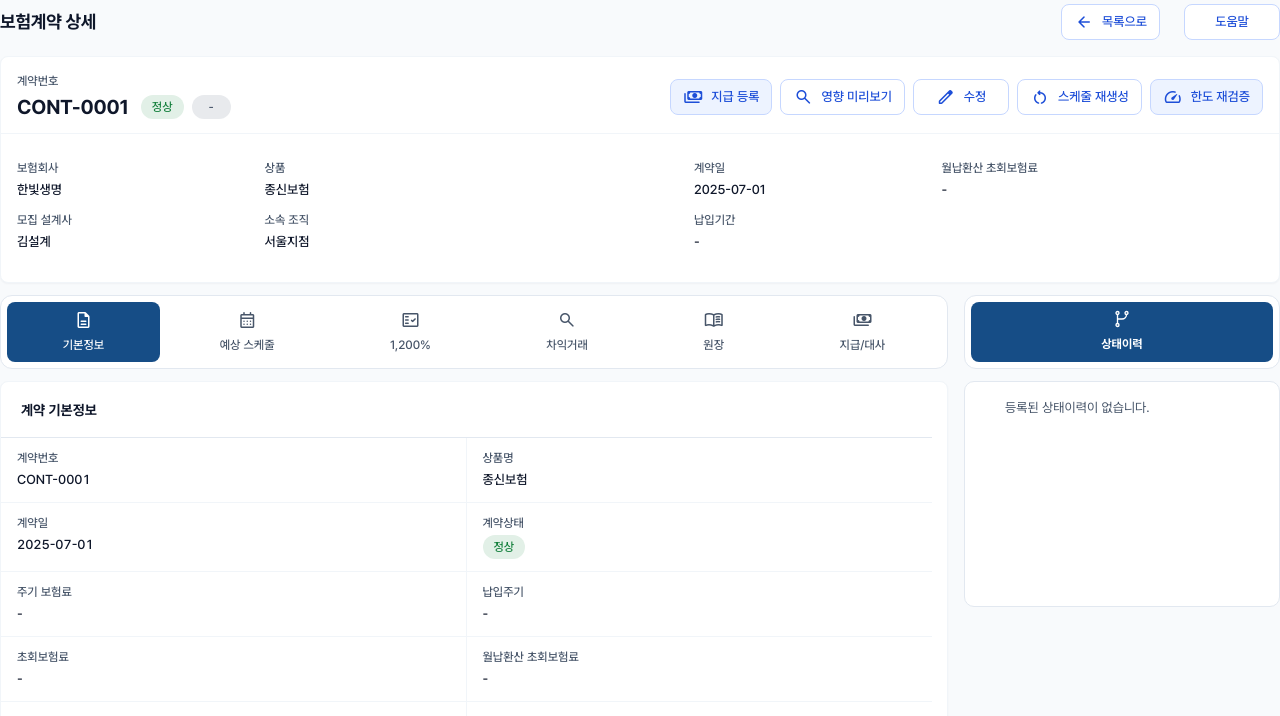
Test case: CONT-W02 상태 변경 영향 미리보기 › 입력이 바뀌면 결과를 낡음으로 표시하고 같은 입력으로 다시 미리보면 지운다
Click the button "영향 미리보기" at (843, 97), box left=780, top=79, right=905, bottom=115
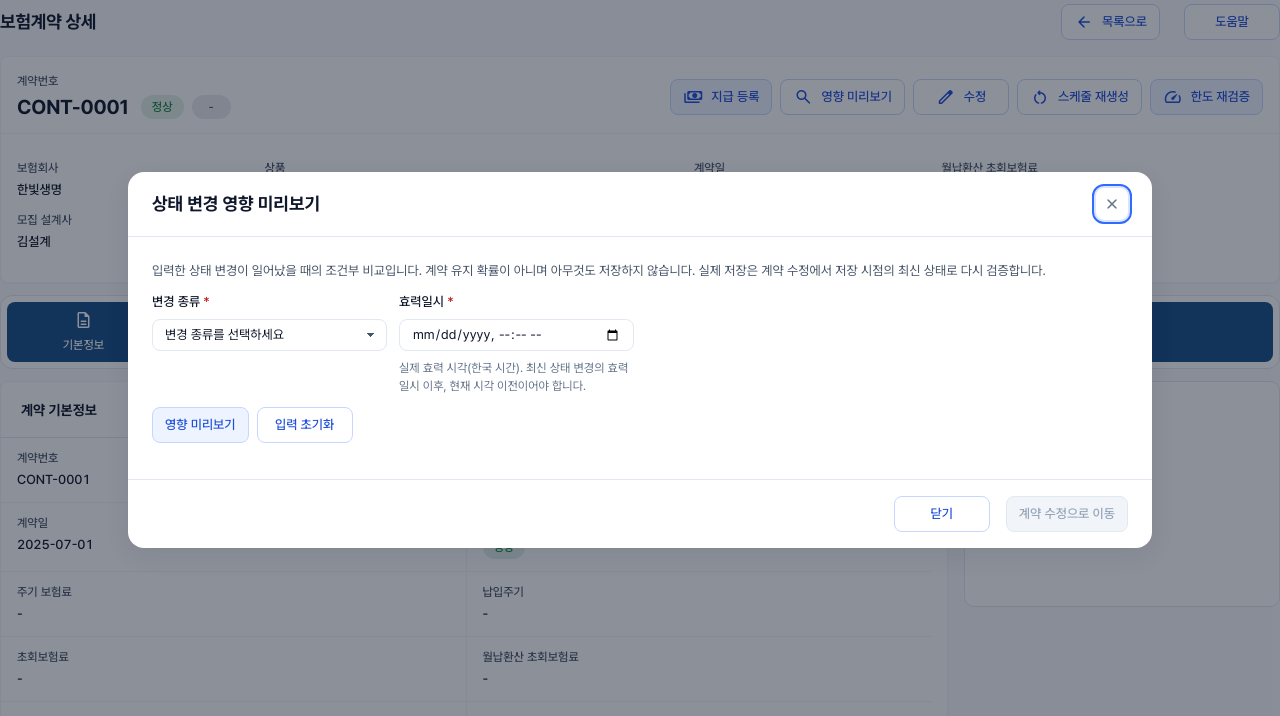
Select "해지" in the dropdown labelled "변경 종류 *" at (270, 335), box left=152, top=319, right=387, bottom=351
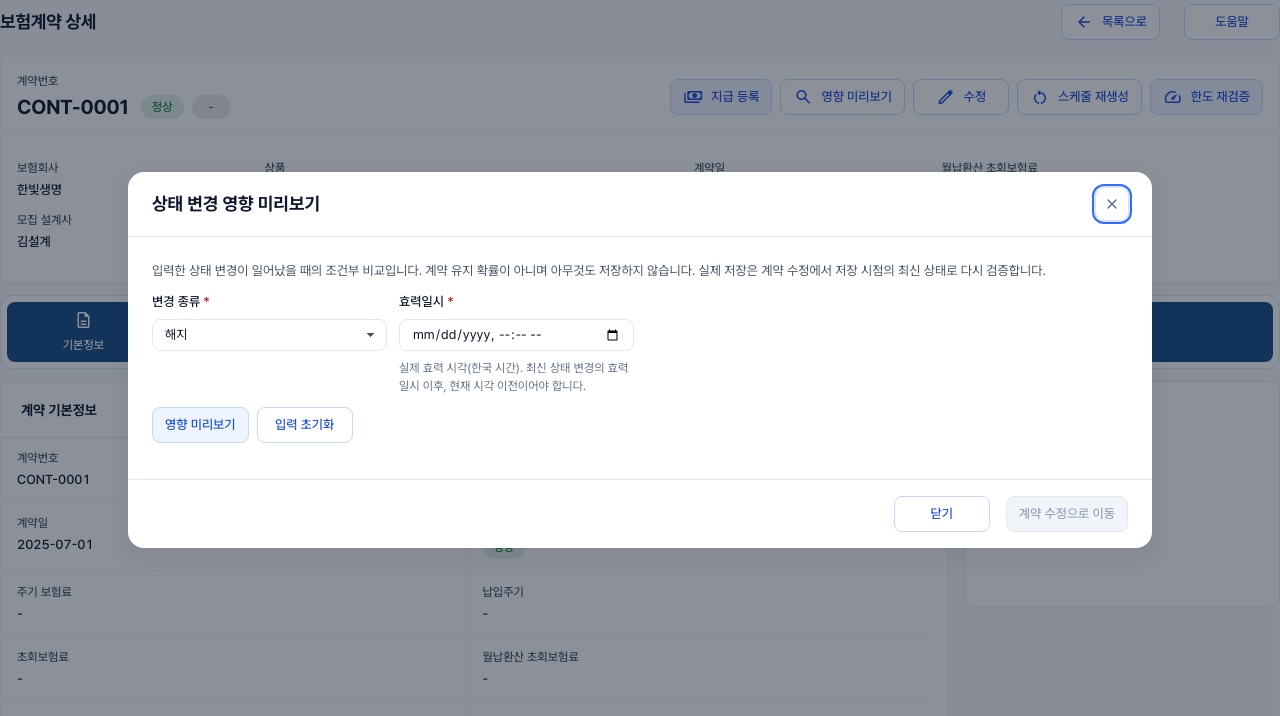
Type "2026-01-15T09:00" into the field labelled "효력일시 *" at (516, 335), box left=399, top=319, right=634, bottom=351
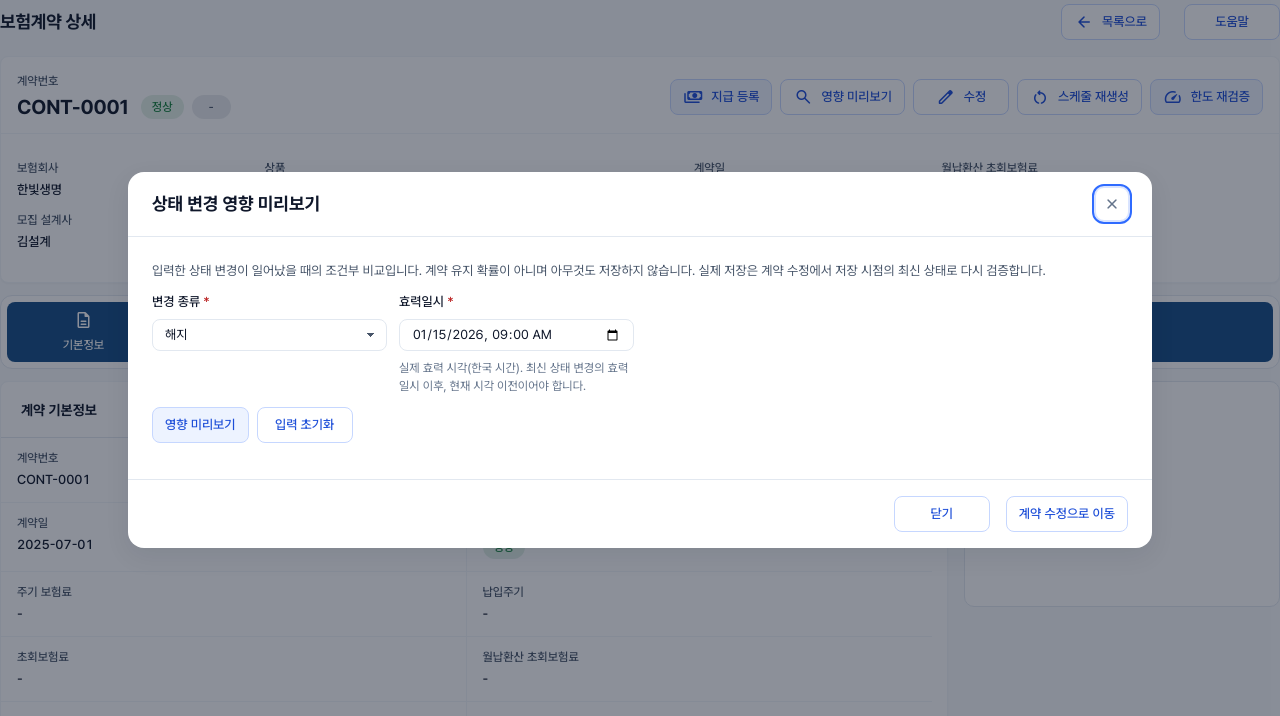
Click the button "영향 미리보기" at (200, 425), box left=152, top=407, right=249, bottom=443
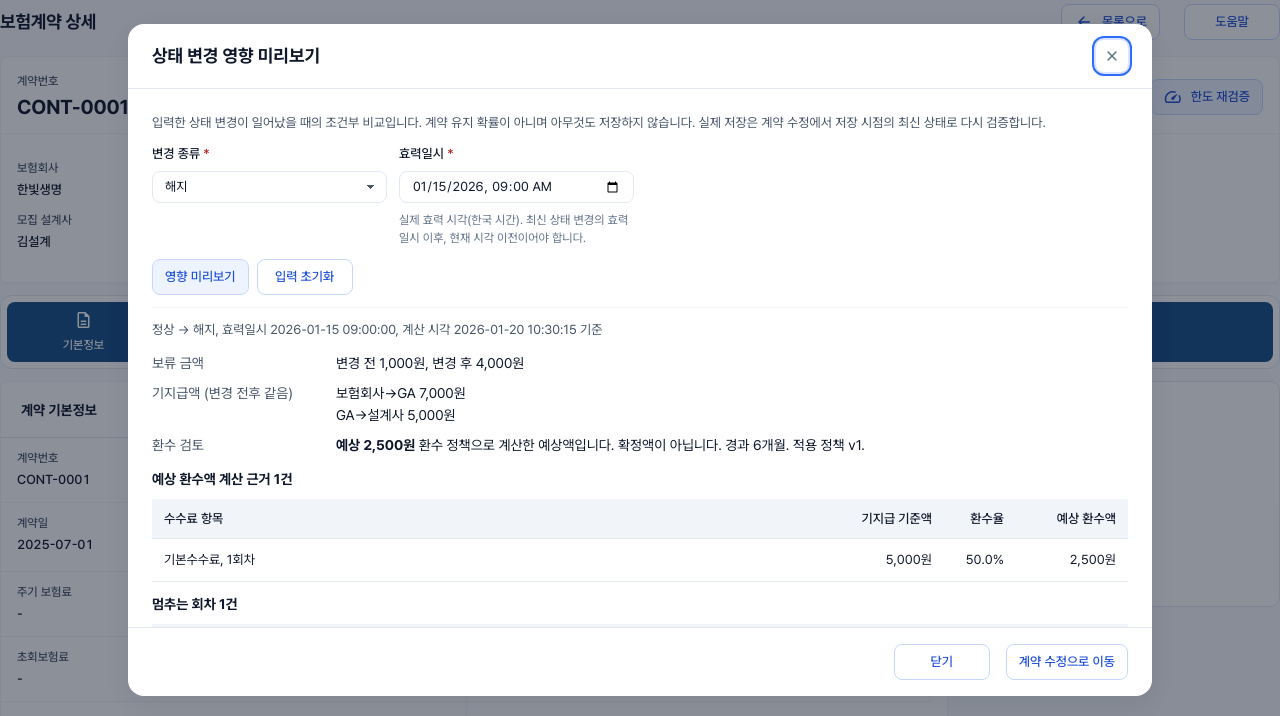
Expected: the text "최신 아님" is not shown
Replace the text in the field labelled "효력일시 *" with "2026-01-16T09:00" at (516, 187), box left=399, top=171, right=634, bottom=203
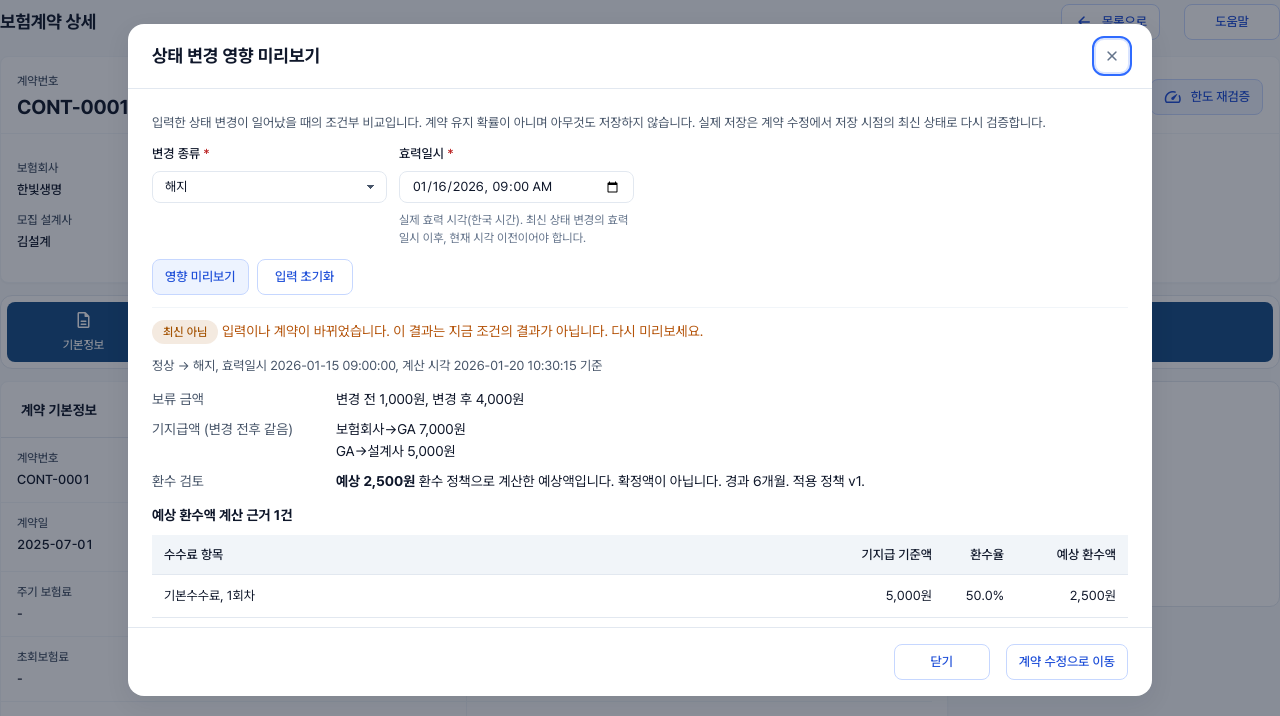
Expected: the text "최신 아님" is shown, left=152, top=320, right=218, bottom=344
Click the button "영향 미리보기" at (200, 277), box left=152, top=259, right=249, bottom=295
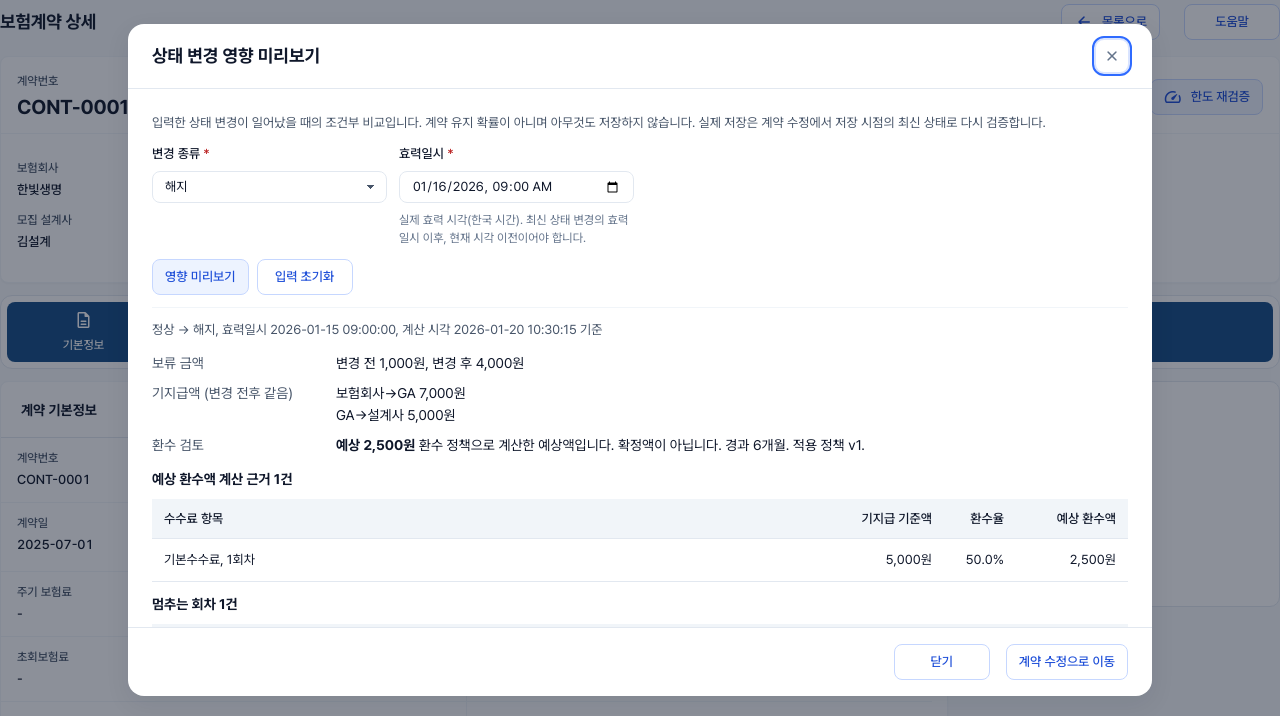
Expected: the text "최신 아님" is gone
